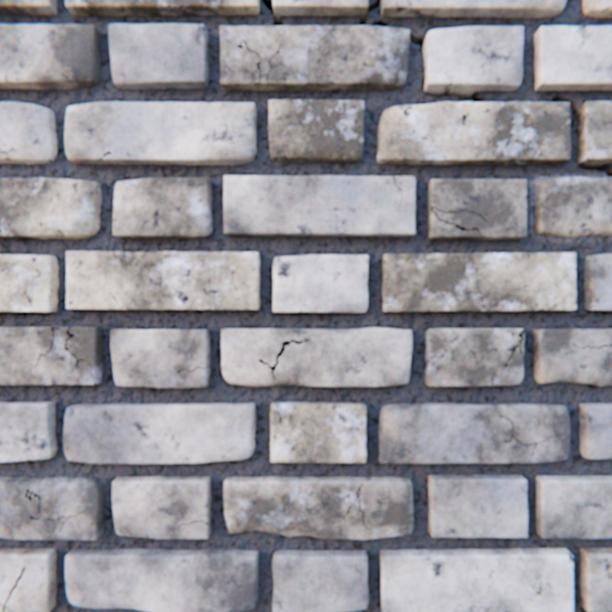brick: (380, 547, 572, 611), (66, 548, 259, 611), (220, 27, 409, 91), (376, 103, 569, 165), (66, 103, 256, 165), (224, 476, 413, 538), (224, 176, 415, 237), (64, 403, 255, 463), (382, 253, 575, 312), (378, 403, 568, 462), (67, 252, 260, 310), (222, 327, 411, 386), (0, 25, 102, 90), (0, 476, 105, 539), (110, 25, 208, 90), (424, 28, 522, 92), (0, 178, 102, 239), (428, 474, 526, 536), (113, 475, 211, 537), (273, 549, 368, 611), (269, 101, 364, 163), (114, 178, 212, 238), (427, 180, 525, 240), (0, 327, 103, 384), (424, 328, 523, 386), (271, 402, 366, 462), (112, 329, 210, 387), (273, 255, 368, 313), (533, 27, 611, 91), (535, 475, 611, 537), (532, 329, 611, 386), (0, 547, 57, 611), (0, 103, 58, 164), (380, 0, 565, 19), (0, 402, 58, 461), (0, 255, 59, 312), (67, 0, 259, 17), (576, 102, 611, 164), (579, 547, 611, 611), (578, 403, 611, 458), (273, 0, 368, 17), (583, 254, 611, 311), (0, 0, 58, 16), (581, 0, 611, 18), (5, 607, 13, 611), (0, 604, 3, 611)
broken_brick: (533, 177, 611, 237)
crack: (258, 339, 310, 378), (31, 500, 85, 531), (430, 206, 479, 234), (422, 81, 482, 103), (0, 565, 26, 611), (237, 40, 261, 82), (346, 482, 366, 531), (502, 329, 523, 367), (66, 327, 85, 369), (548, 96, 576, 121), (266, 45, 280, 85), (577, 164, 611, 177), (499, 414, 512, 441), (409, 35, 423, 59), (461, 210, 487, 222), (49, 327, 60, 351), (513, 436, 537, 447), (262, 0, 273, 15), (26, 488, 41, 499), (367, 0, 380, 12), (36, 353, 47, 366), (273, 17, 287, 27), (370, 22, 388, 28), (572, 343, 593, 348), (183, 519, 207, 523), (185, 366, 203, 371), (356, 18, 366, 26), (104, 152, 112, 157), (599, 344, 611, 347)
